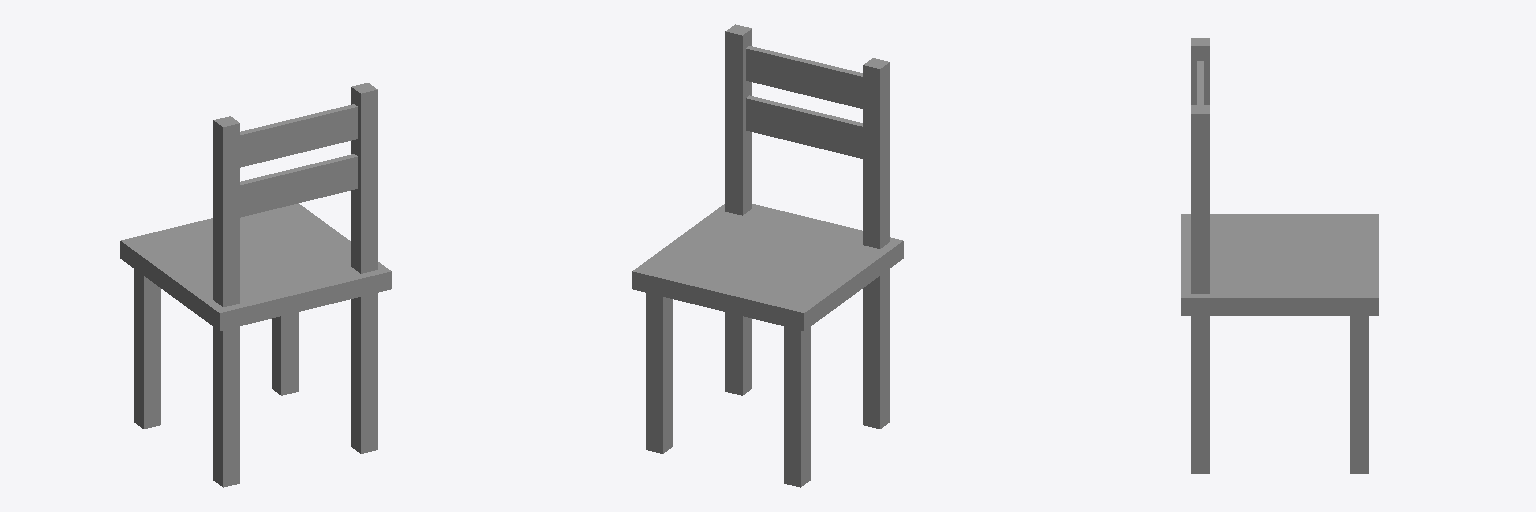
The picture shows the model from 3 angles: view 1: azimuth 30°, elevation 25°; view 2: azimuth 150°, elevation 25°; view 3: azimuth 270°, elevation 25°; orthographic projection.
Parts seen in each view (by area): view 1: Chair; view 2: Chair; view 3: Chair.
Part boxes in pixels (x1,y1,x2,y2): Chair: (120,83,391,487); Chair: (632,24,903,487); Chair: (1181,38,1378,473).
Bounding box in the file's own units: 0.686 × 1.37 × 0.686.